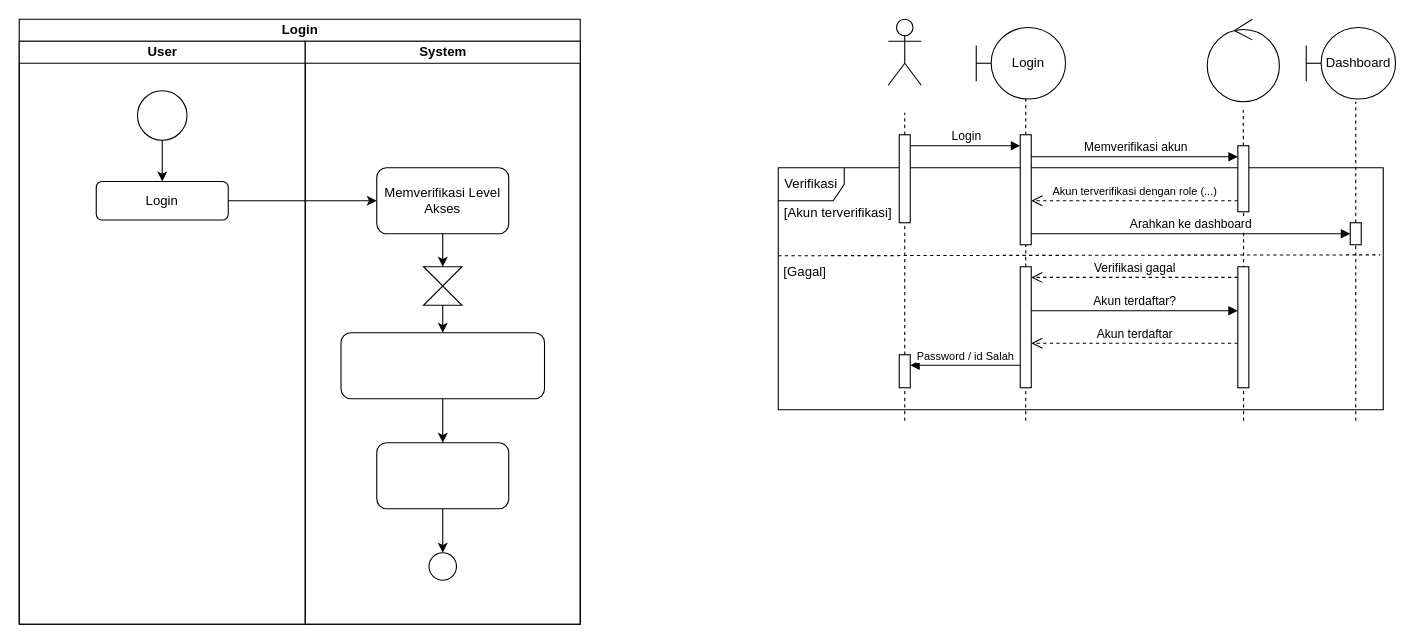
This 1416x644 diagram has some shape labels left out. The centre of each missing label's shape, as x and y in pixels:
"Acc Database" belongs at point (1242, 60).
"Actor" belongs at point (904, 51).
"Level Akses Diverifikasi sebagai (Admin/Apoteker/Manajer)" belongs at point (442, 365).
"Menampilkan Dashboard" belongs at point (442, 475).
